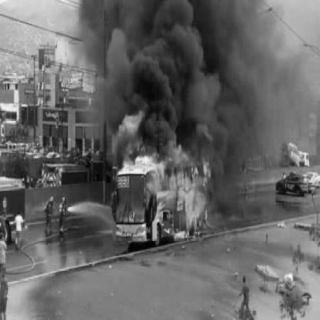Smoke: (164, 97, 254, 143)
